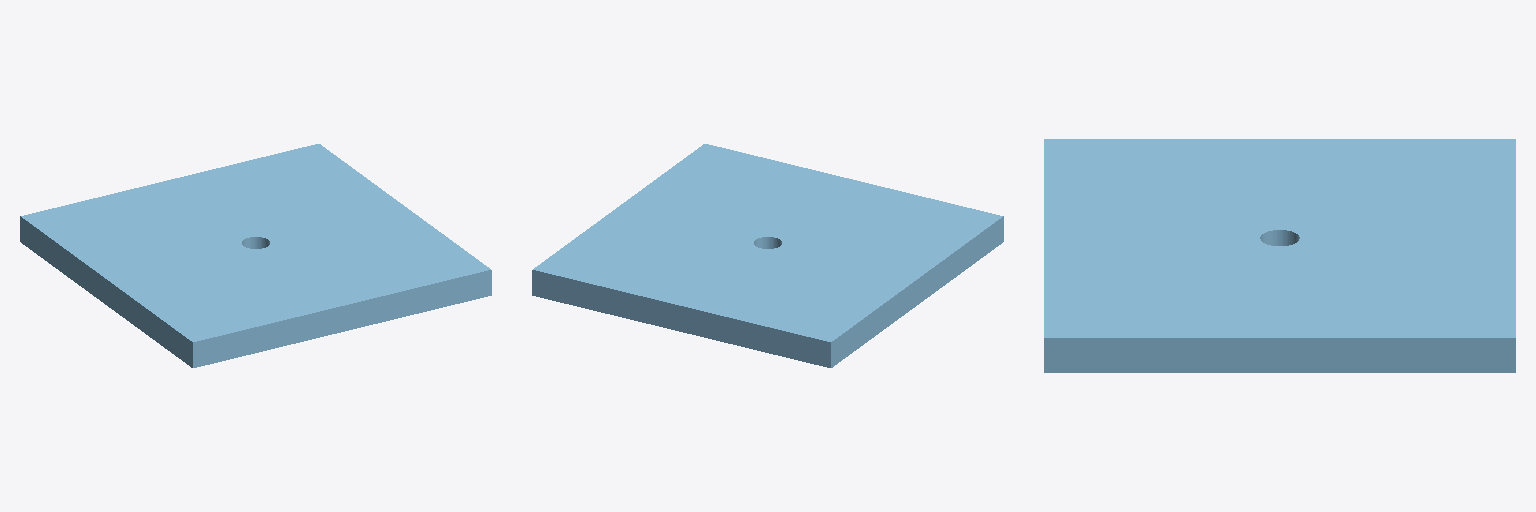
URDF robot description (my-robot):
<?xml version="1.0" ?>
<!-- Generated using onshape-to-robot -->
<!-- Onshape document_id: 4af8569930bfdc776139afc6 -->
<robot name="my-robot">
  <!-- Link base -->
  <link name="base">
    <inertial>
      <origin xyz="-0.0595984 0.133273 0.0193778" rpy="0 0 0"/>
      <mass value="6.33654"/>
      <inertia ixx="0.0496653" ixy="0" ixz="0" iyy="0.0496653" iyz="0" izz="0.0986492"/>
    </inertial>
    <!-- Part base -->
    <visual>
      <origin xyz="-0.0595984 0.133273 0.00667784" rpy="0 -0 0"/>
      <geometry>
        <mesh filename="package://assets/base.stl"/>
      </geometry>
      <material name="base_material">
        <color rgba="0.615686 0.811765 0.929412 1"/>
      </material>
    </visual>
    <collision>
      <origin xyz="-0.0595984 0.133273 0.00667784" rpy="0 -0 0"/>
      <geometry>
        <mesh filename="package://assets/base.stl"/>
      </geometry>
    </collision>
  </link>
</robot>

--- Render facts (derived) ---
3 views of the same robot in one strip: view 1: azimuth 30°, elevation 25°; view 2: azimuth 150°, elevation 25°; view 3: azimuth 270°, elevation 25° (orthographic).
Robot: my-robot — 1 links, 0 joints (none); root link base; default pose: all joints at 0.
Visible links, largest first — view 1: base; view 2: base; view 3: base.
Boxes of the visible links, x1,y1,x2,y2 form: base: [20, 144, 491, 367]; base: [532, 144, 1003, 367]; base: [1044, 139, 1515, 372].
Size in the robot's own frame: 0.3048 by 0.3048 by 0.0254 metres.
Meshes: 1 distinct files referenced, 1 mesh visuals loaded (1 binary STL).
